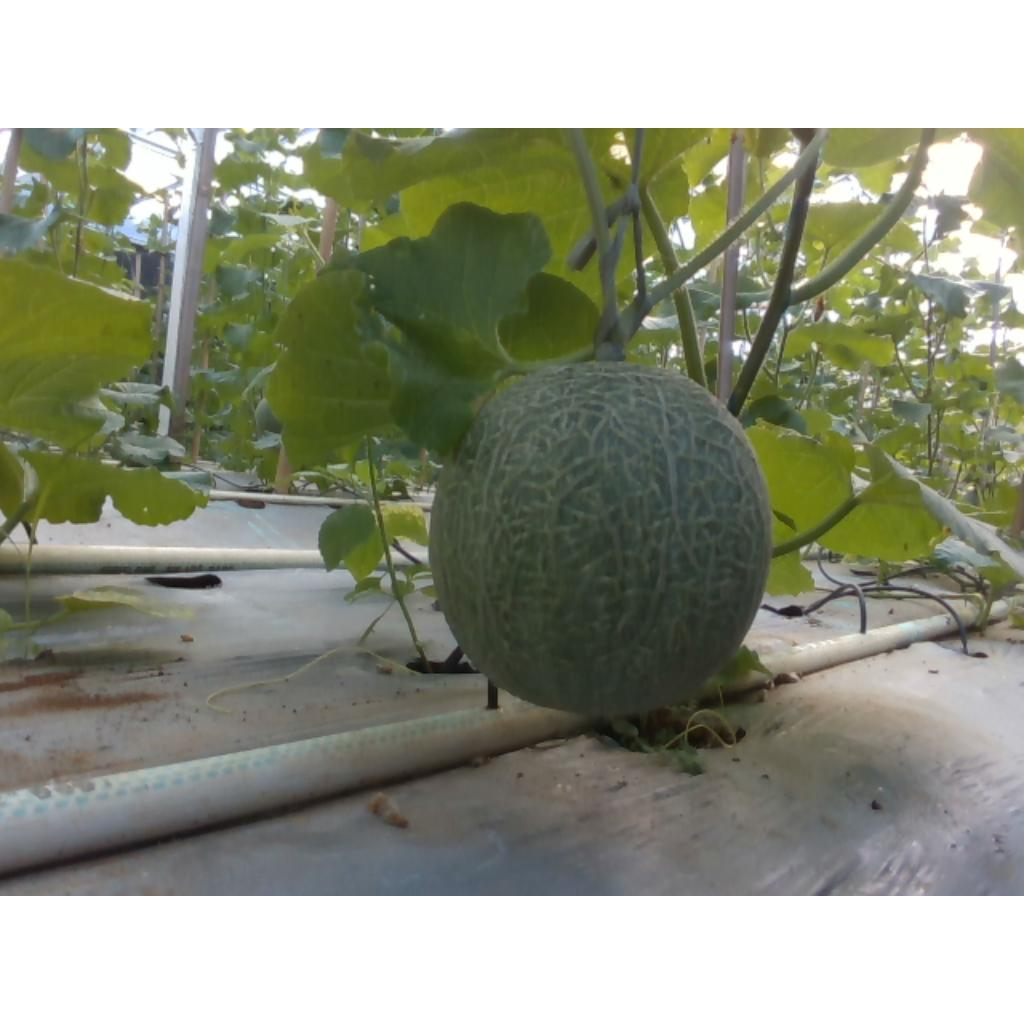melon: (432, 362, 774, 716)
